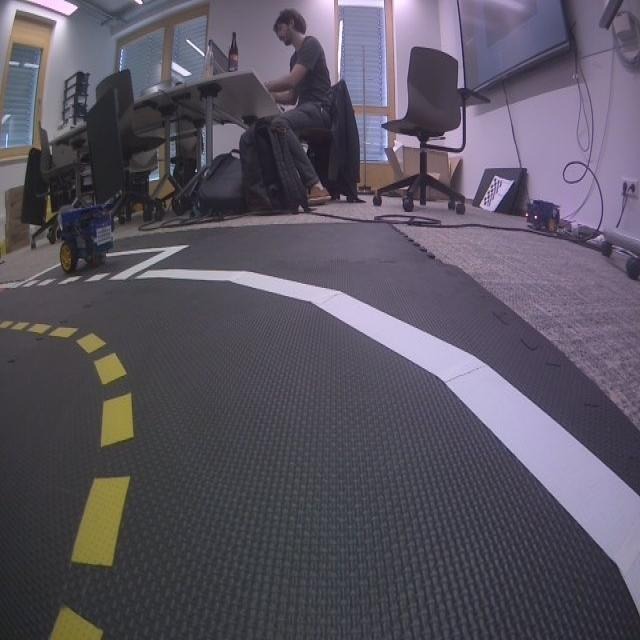bot: (58, 205, 113, 270)
park: (12, 246, 189, 288)
